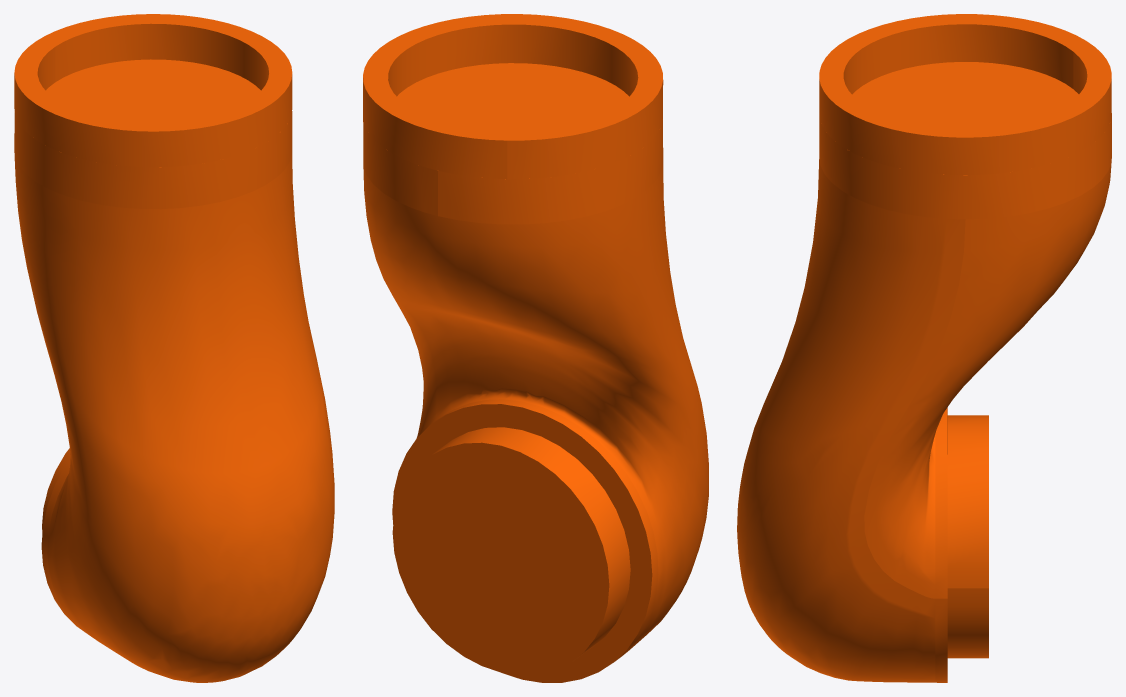
3 renders of one model, left to right at view 1: azimuth 30°, elevation 25°; view 2: azimuth 150°, elevation 25°; view 3: azimuth 270°, elevation 25°, orthographic. The views are drawn at different scales.
Parts seen in each view (by area): view 1: Node_0x293c780; view 2: Node_0x293c780; view 3: Node_0x293c780.
Boxes of the visible parts, left/top/right/bottom form: Node_0x293c780: left=14, top=14, right=334, bottom=682; Node_0x293c780: left=363, top=14, right=708, bottom=682; Node_0x293c780: left=737, top=14, right=1111, bottom=682.
Size of the model in its own units: 120 by 269 by 154.
